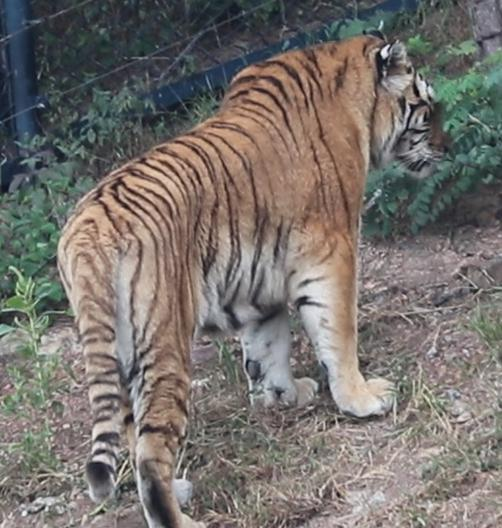tiger: (58, 31, 440, 527)
